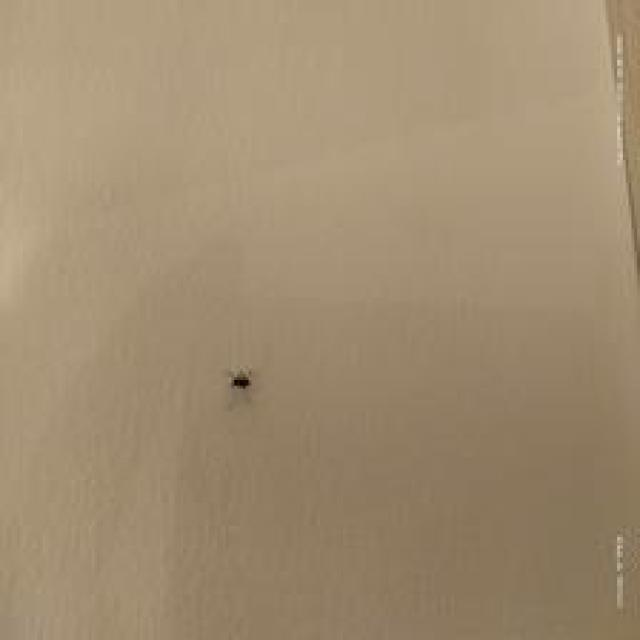Aedes albopictus: (227, 366, 253, 394)
